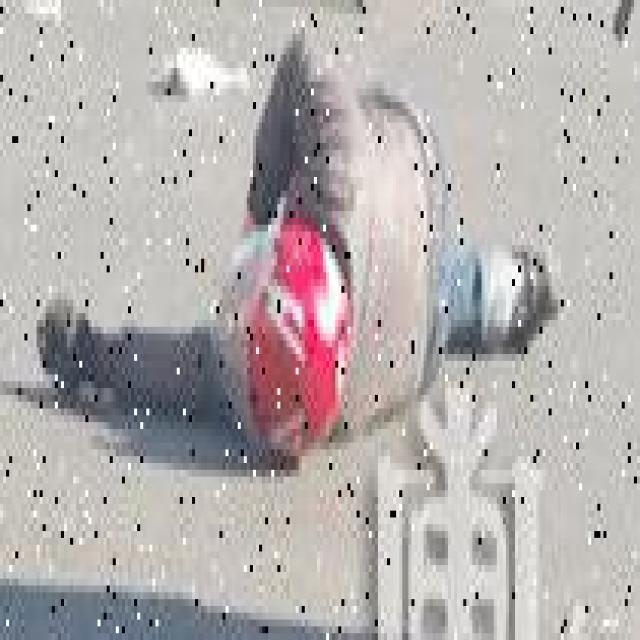fall: (65, 34, 558, 415)
